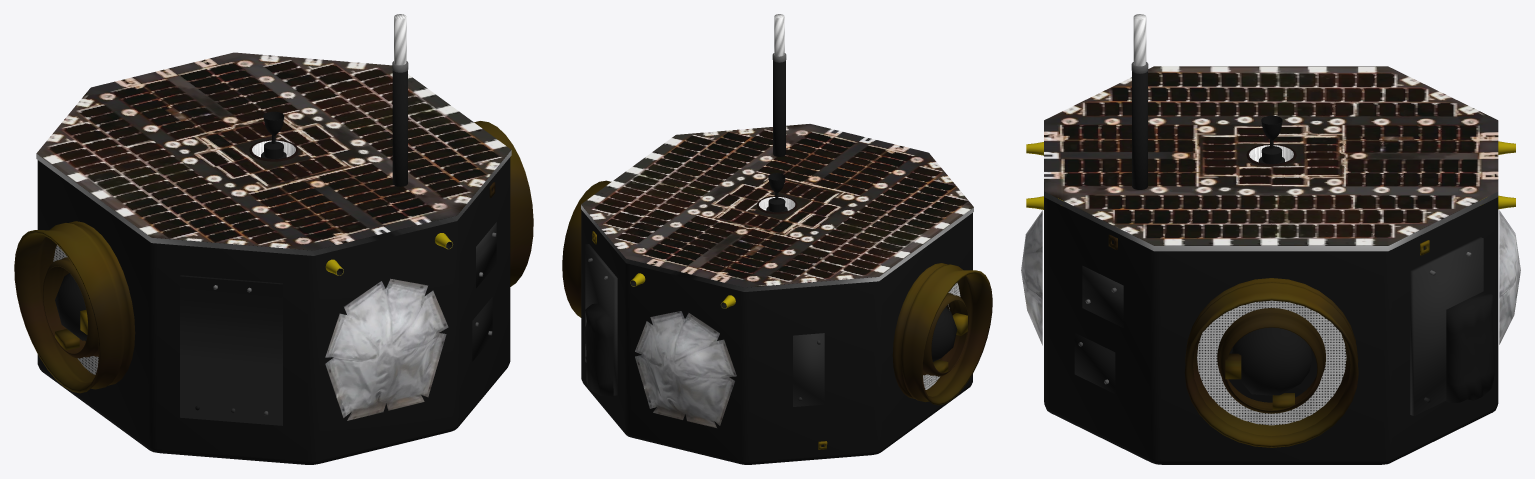
File: interstellar-boundary-explorer-ibex.glb
3 views of the same model, side by side, from view 1: azimuth 30°, elevation 25°; view 2: azimuth 150°, elevation 25°; view 3: azimuth 270°, elevation 25° (orthographic). The views are drawn at different scales.
Parts seen in each view (by area): view 1: shiny_panel, black_krinkle, foil_silver, foil_gold, tex_01; view 2: black_krinkle, shiny_panel, foil_gold, tex_01, foil_silver; view 3: black_krinkle, shiny_panel, foil_silver, foil_gold, tex_01.
Boxes of the visible parts, x1,y1,x2,y2 form: shiny_panel: [36, 52, 511, 250]; black_krinkle: [37, 70, 510, 464]; foil_silver: [36, 61, 511, 425]; foil_gold: [14, 121, 533, 393]; tex_01: [53, 14, 448, 420]; black_krinkle: [581, 60, 972, 464]; shiny_panel: [581, 124, 973, 287]; foil_gold: [562, 180, 992, 449]; tex_01: [635, 14, 960, 427]; foil_silver: [581, 53, 973, 406]; black_krinkle: [1044, 71, 1498, 464]; shiny_panel: [1044, 66, 1498, 245]; foil_silver: [1044, 62, 1498, 416]; foil_gold: [1026, 141, 1515, 447]; tex_01: [1021, 14, 1520, 425].
Bounding box in the file's own units: 1.18 × 0.9805 × 1.12.
Materials: 4 (3 with a texture image).
